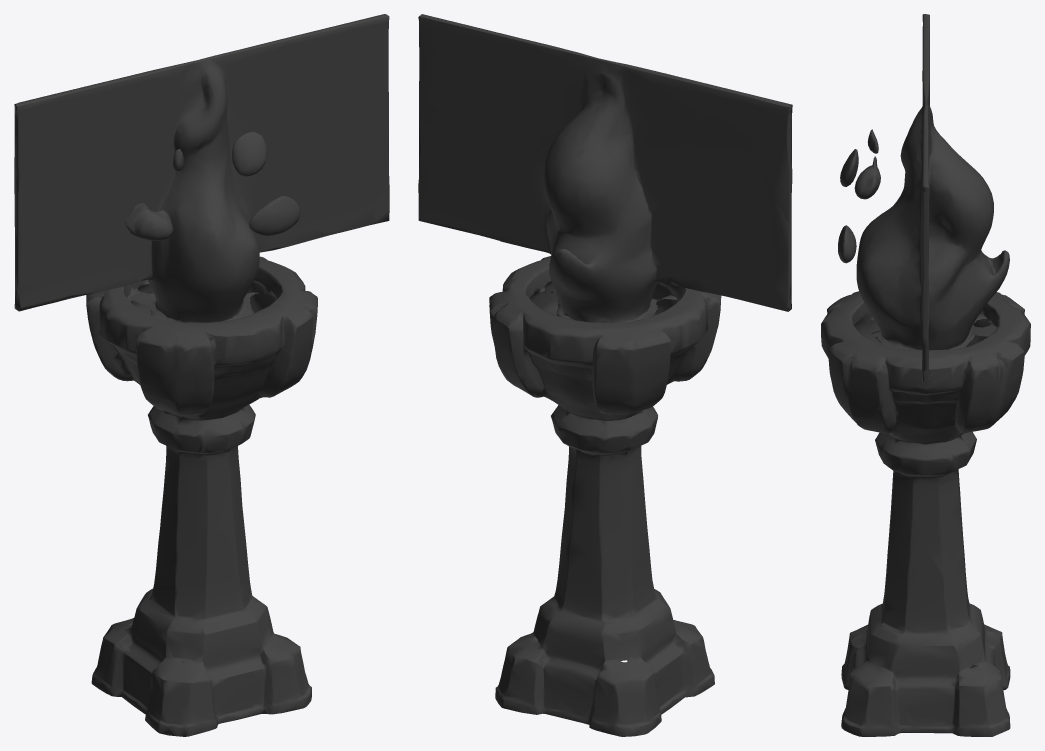
The model's file is pr_antorcha.glb.
The picture shows the model from 3 angles, left to right: view 1: azimuth 30°, elevation 25°; view 2: azimuth 150°, elevation 25°; view 3: azimuth 270°, elevation 25°; orthographic projection. The views are drawn at different scales.
Parts seen in each view (by area): view 1: geometry_0; view 2: geometry_0; view 3: geometry_0.
Part boxes in pixels (<box>): geometry_0: <box>14,14,389,736</box>; geometry_0: <box>418,14,792,736</box>; geometry_0: <box>821,14,1030,736</box>.
Size of the model in its own units: 0.6067 by 0.9854 by 0.3111.
Materials: 1 (1 with a texture image).
